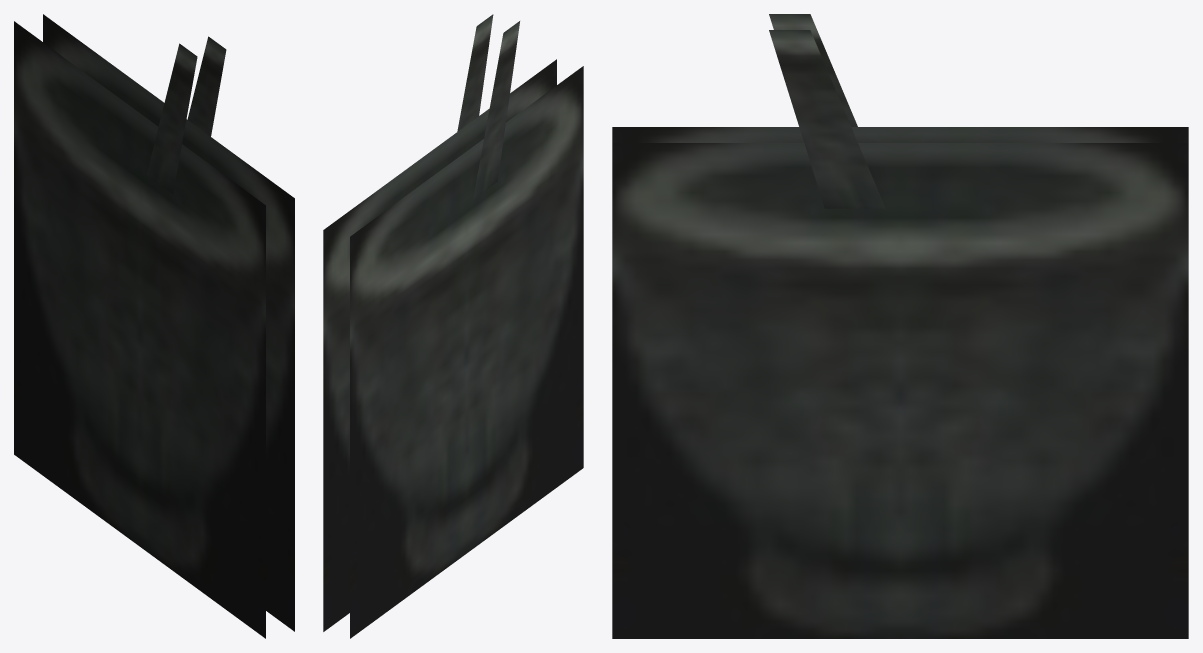
File: sign1_shanty_a_icon_chemist.fbx
3 renders of one model, left to right at view 1: azimuth 30°, elevation 25°; view 2: azimuth 150°, elevation 25°; view 3: azimuth 270°, elevation 25°, orthographic. The views are drawn at different scales.
Parts seen in each view (by area): view 1: mortor, pestle; view 2: mortor, pestle; view 3: mortor, pestle.
Part boxes in pixels (x1,y1,x2,y2): mortor: (14, 14, 294, 638); pestle: (146, 36, 226, 194); mortor: (323, 59, 583, 638); pestle: (457, 14, 519, 199); mortor: (612, 127, 1188, 638); pestle: (769, 14, 885, 208).
Size of the model in its own units: 16.67 by 293 by 251.
Materials: 1 (1 with a texture image).
